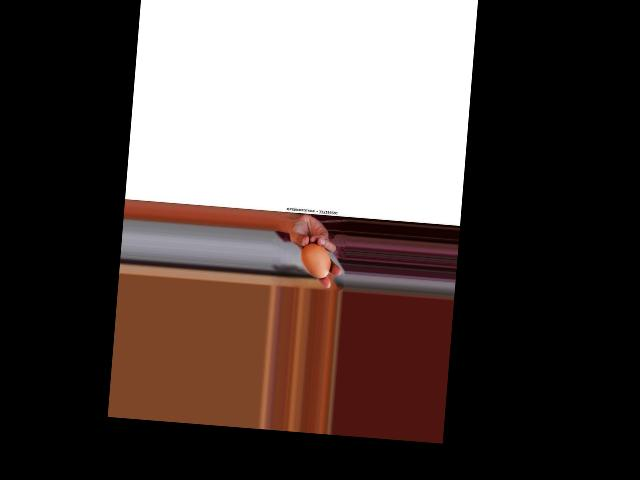egg: (300, 242, 333, 279)
